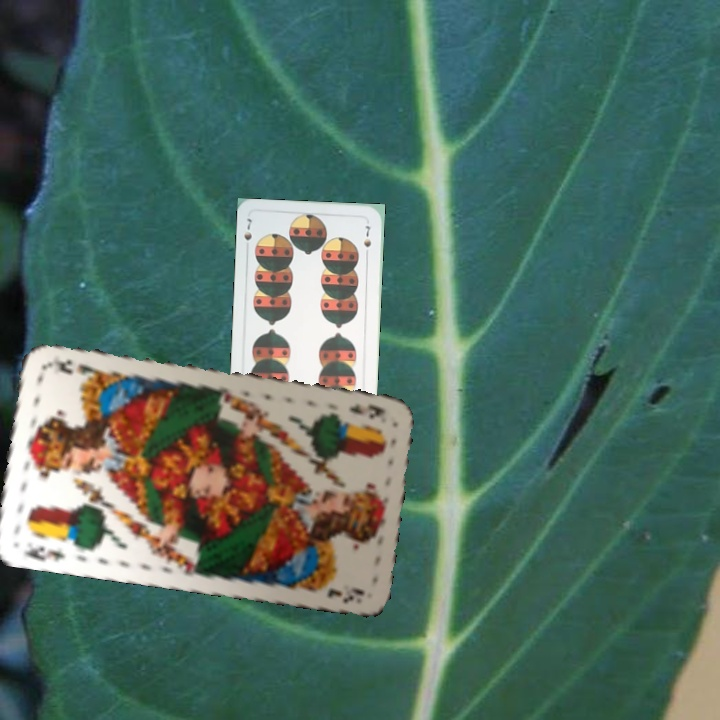EK: (19, 542, 68, 564), (344, 399, 388, 422)
S7: (240, 214, 254, 253)
